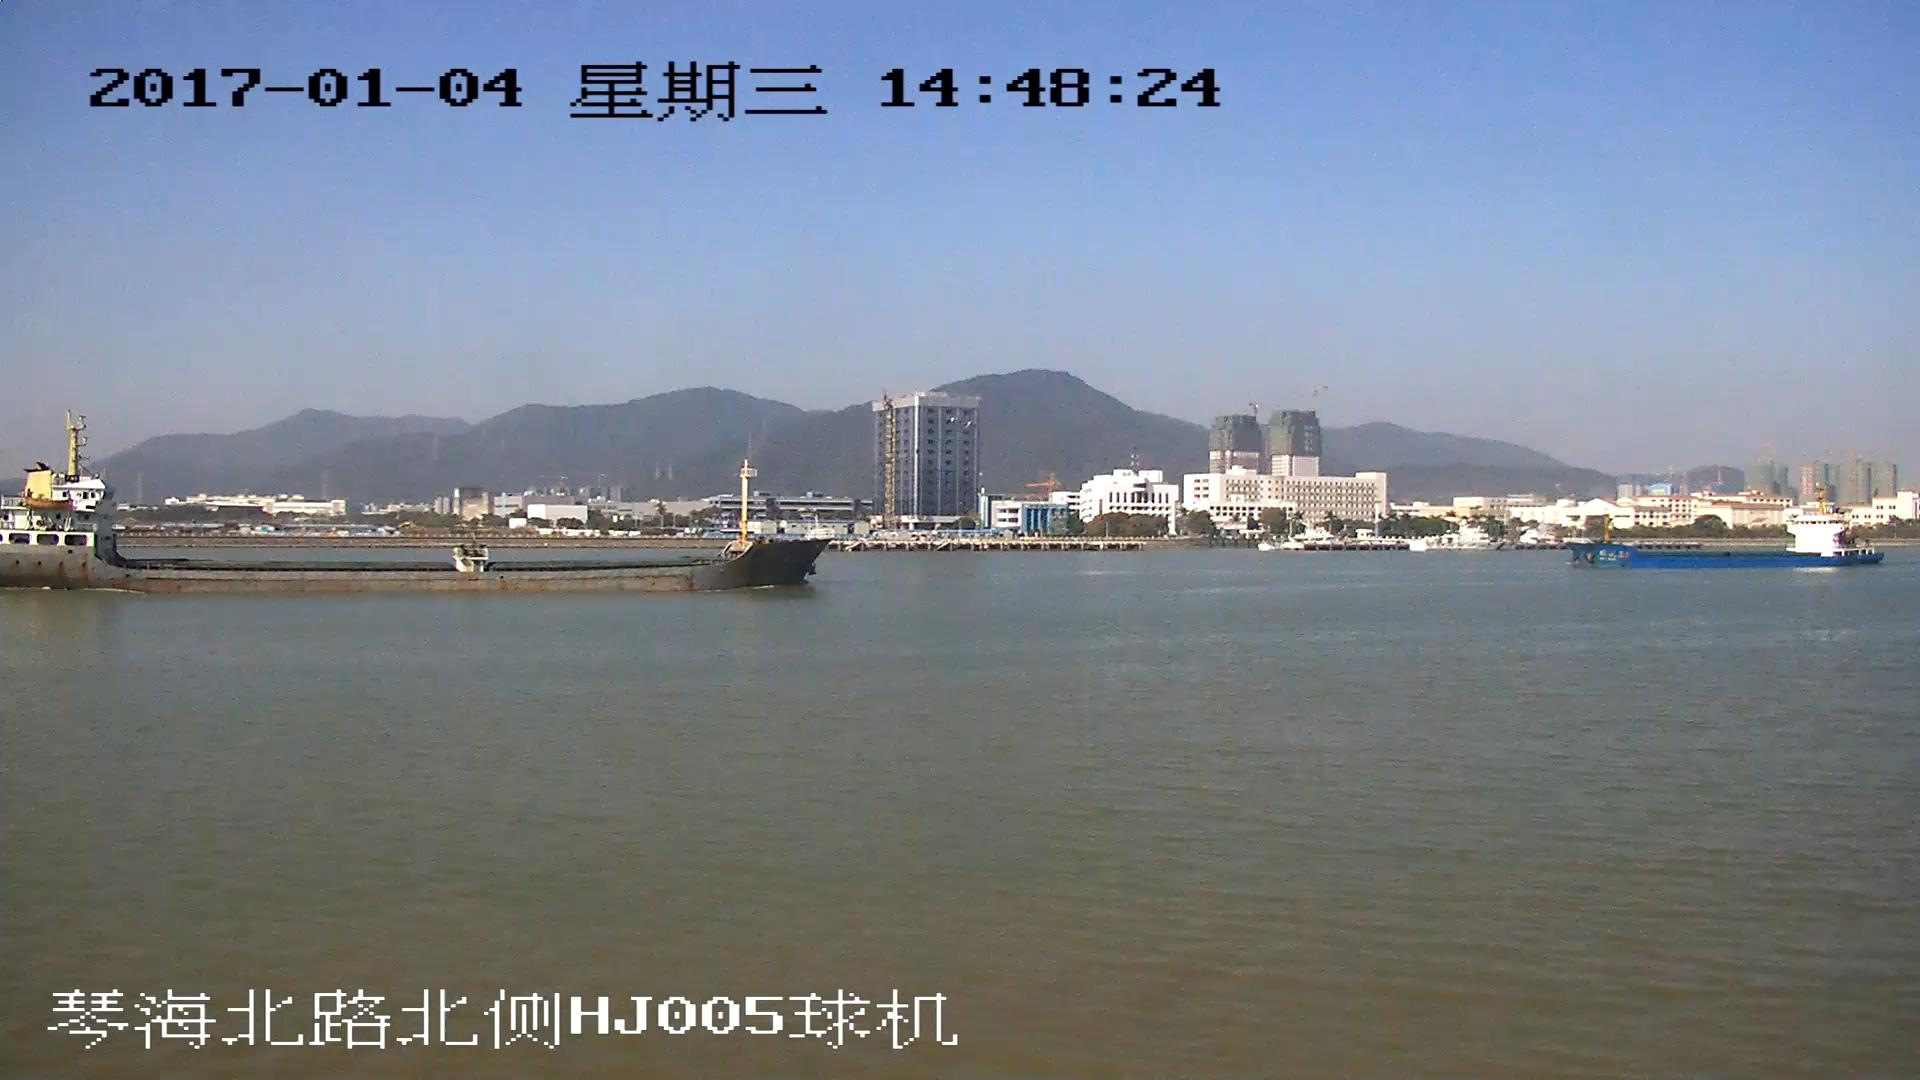general cargo ship: (1, 421, 822, 595), (1581, 501, 1881, 569)
